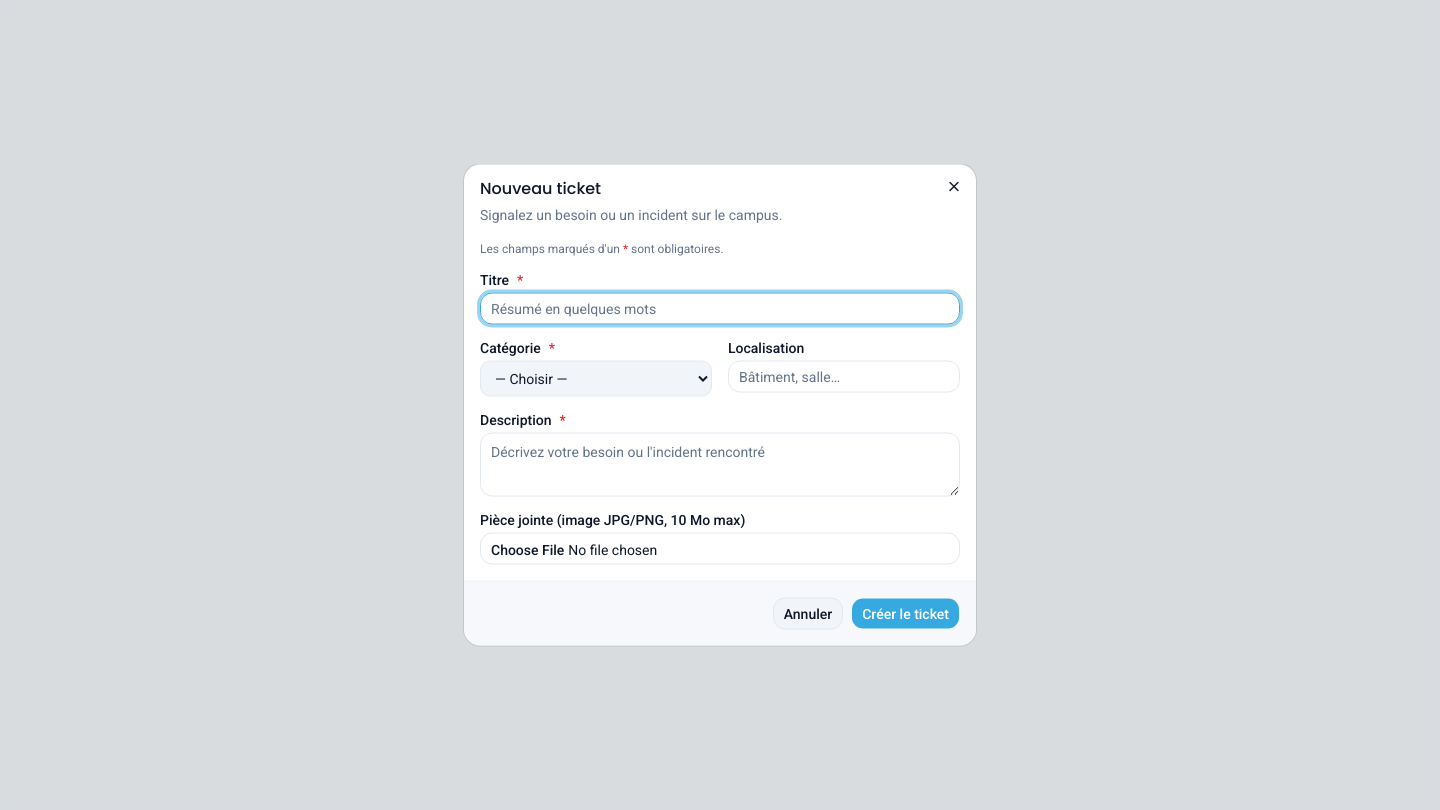
Test case: US04 — création d’un ticket (UI) › US04-AC3 bloque la soumission et affiche un message quand les champs obligatoires sont vides
Click the button "Créer le ticket": x=906, y=614 851,598 -> 960,630
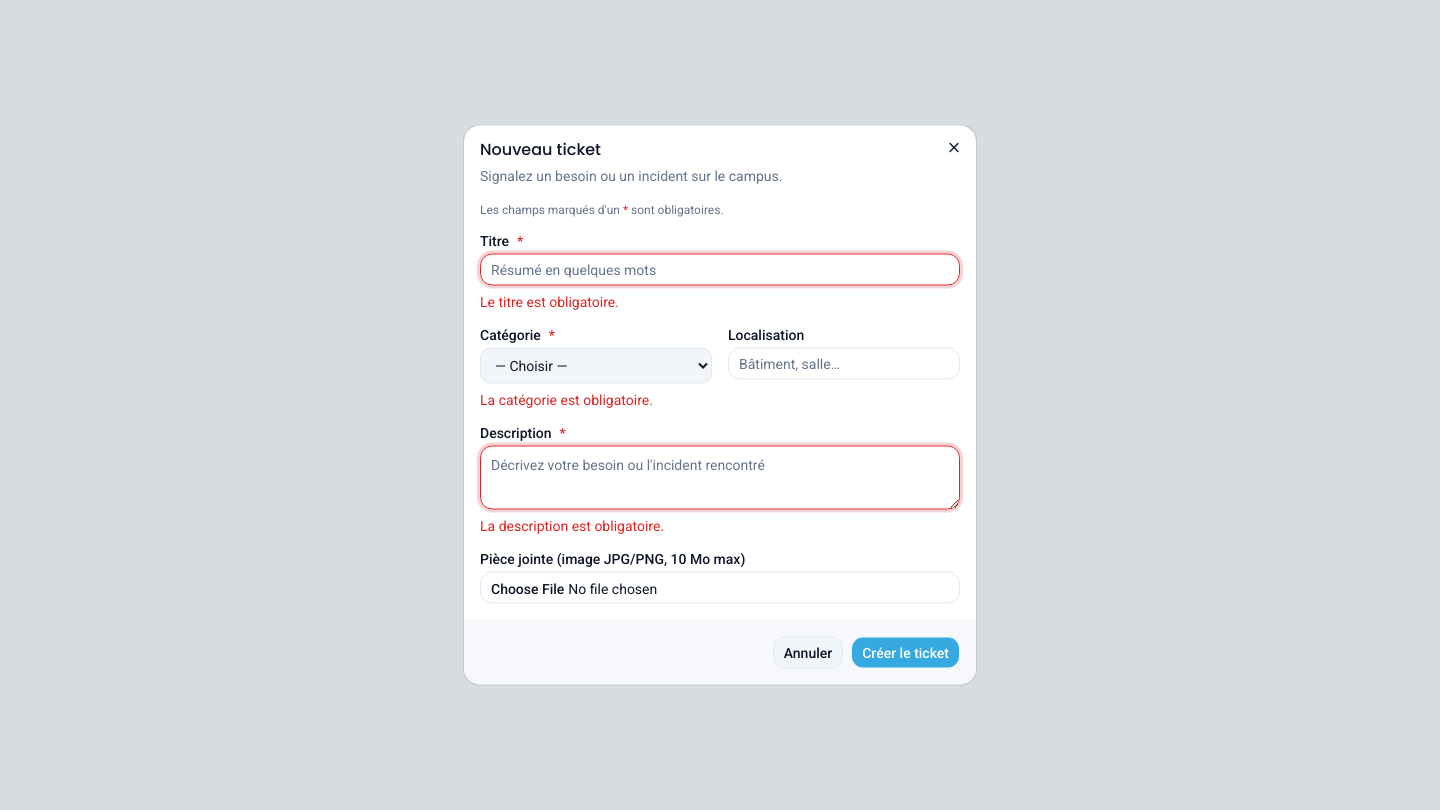
expect the text "Le titre est obligatoire." is shown: met, box 480,294 -> 619,310
